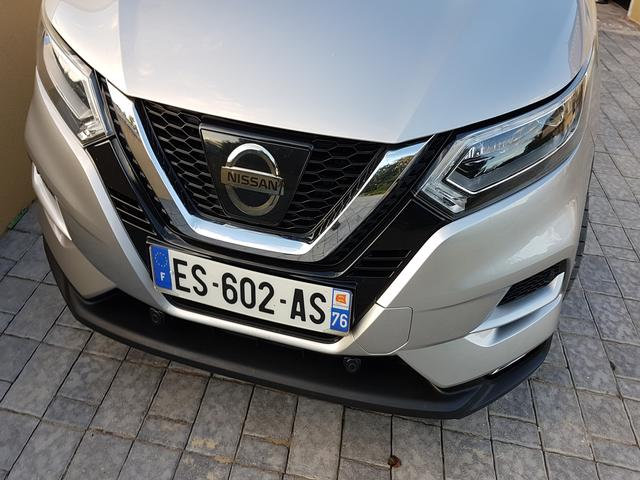Quashquai: (127, 219, 369, 356)
